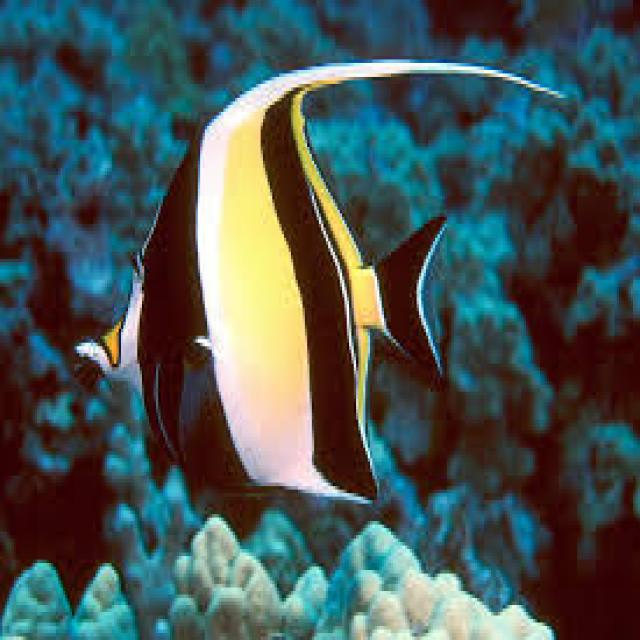MorishIdol: (70, 52, 575, 510)
